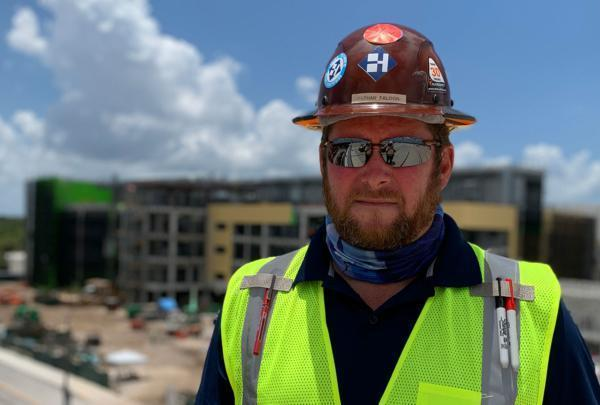helmet: (292, 22, 477, 129)
